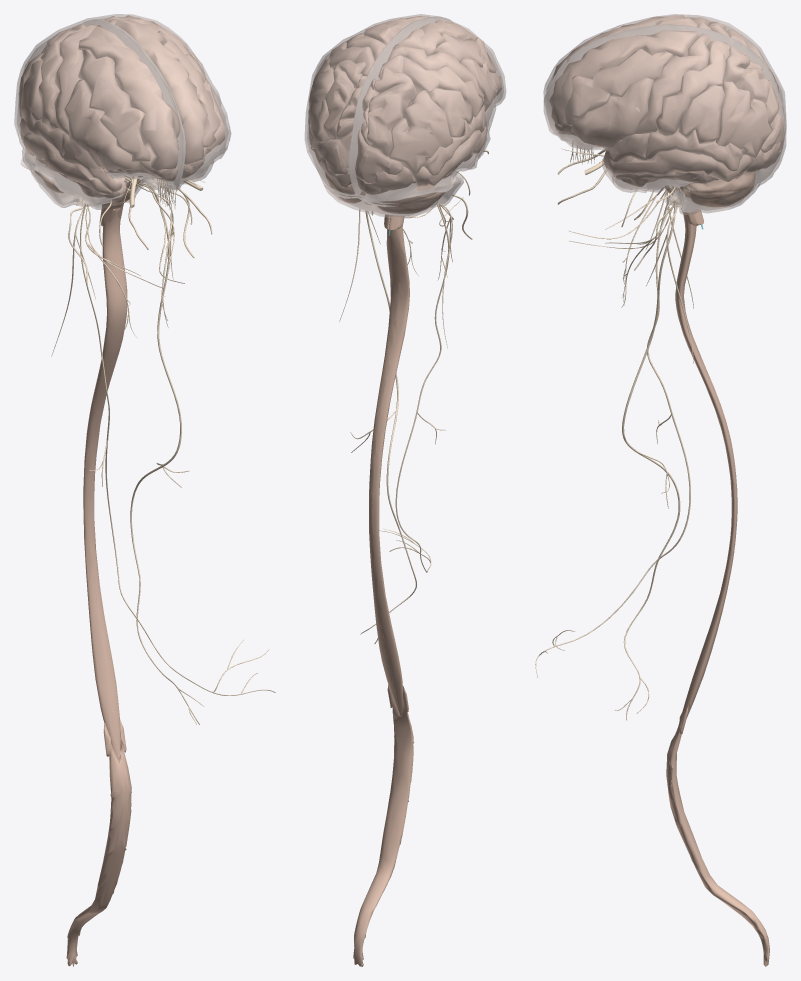
The model's file is neuraxia-bp3d-cns-mobile.glb.
The picture shows the model from 3 angles, left to right: view 1: azimuth 30°, elevation 25°; view 2: azimuth 150°, elevation 25°; view 3: azimuth 270°, elevation 25°; orthographic projection. The views are drawn at different scales.
Parts seen in each view (by area): view 1: Cerebral dura mater, Spinal cord, Right superior frontal gyrus, Cauda equina, Left superior frontal gyrus, Right middle frontal gyrus, Right inferior frontal gyrus, Right superior temporal gyrus, Right precentral gyrus, Falx cerebri, Right middle temporal gyrus, Right postcentral gyrus (+4 smaller); view 2: Cerebral dura mater, Spinal cord, Cauda equina, Right angular gyrus, Right superior parietal lobule, Right postcentral gyrus, Left superior parietal lobule, Falx cerebri, Right superior frontal gyrus, Left angular gyrus, Cerebellum, Right precentral gyrus (+15 smaller); view 3: Cerebral dura mater, Spinal cord, Left superior frontal gyrus, Left middle frontal gyrus, Left inferior frontal gyrus, Cauda equina, Left angular gyrus, Left superior temporal gyrus, Left middle temporal gyrus, Left postcentral gyrus, Left precentral gyrus, Falx cerebri (+7 smaller).
Part boxes in pixels (bbox=[...]): Cerebral dura mater: bbox=[14, 14, 231, 209]; Spinal cord: bbox=[83, 208, 127, 761]; Right superior frontal gyrus: bbox=[78, 25, 178, 170]; Cauda equina: bbox=[66, 719, 131, 966]; Left superior frontal gyrus: bbox=[115, 19, 207, 164]; Right middle frontal gyrus: bbox=[78, 49, 150, 161]; Right inferior frontal gyrus: bbox=[64, 80, 140, 170]; Right superior temporal gyrus: bbox=[20, 112, 122, 192]; Right precentral gyrus: bbox=[54, 24, 97, 135]; Falx cerebri: bbox=[84, 19, 185, 187]; Right middle temporal gyrus: bbox=[23, 132, 111, 194]; Right postcentral gyrus: bbox=[38, 24, 87, 129]; Cerebral dura mater: bbox=[304, 14, 506, 218]; Spinal cord: bbox=[369, 225, 409, 716]; Cauda equina: bbox=[353, 684, 414, 966]; Right angular gyrus: bbox=[388, 90, 453, 173]; Right superior parietal lobule: bbox=[367, 67, 416, 156]; Right postcentral gyrus: bbox=[378, 54, 483, 116]; Left superior parietal lobule: bbox=[323, 60, 365, 139]; Falx cerebri: bbox=[349, 17, 452, 195]; Right superior frontal gyrus: bbox=[394, 19, 476, 56]; Left angular gyrus: bbox=[308, 67, 334, 148]; Cerebellum: bbox=[325, 172, 444, 213]; Right precentral gyrus: bbox=[387, 46, 484, 104]; Cerebral dura mater: bbox=[543, 14, 786, 215]; Spinal cord: bbox=[675, 214, 737, 732]; Left superior frontal gyrus: bbox=[549, 30, 698, 124]; Left middle frontal gyrus: bbox=[563, 49, 673, 125]; Left inferior frontal gyrus: bbox=[571, 77, 653, 147]; Cauda equina: bbox=[666, 703, 769, 966]; Left angular gyrus: bbox=[715, 81, 772, 158]; Left superior temporal gyrus: bbox=[603, 128, 742, 171]; Left middle temporal gyrus: bbox=[607, 149, 752, 181]; Left postcentral gyrus: bbox=[656, 40, 730, 135]; Left precentral gyrus: bbox=[635, 33, 712, 133]; Falx cerebri: bbox=[549, 25, 785, 130].
Size of the model in its own units: 0.1522 by 0.794 by 0.1915.
